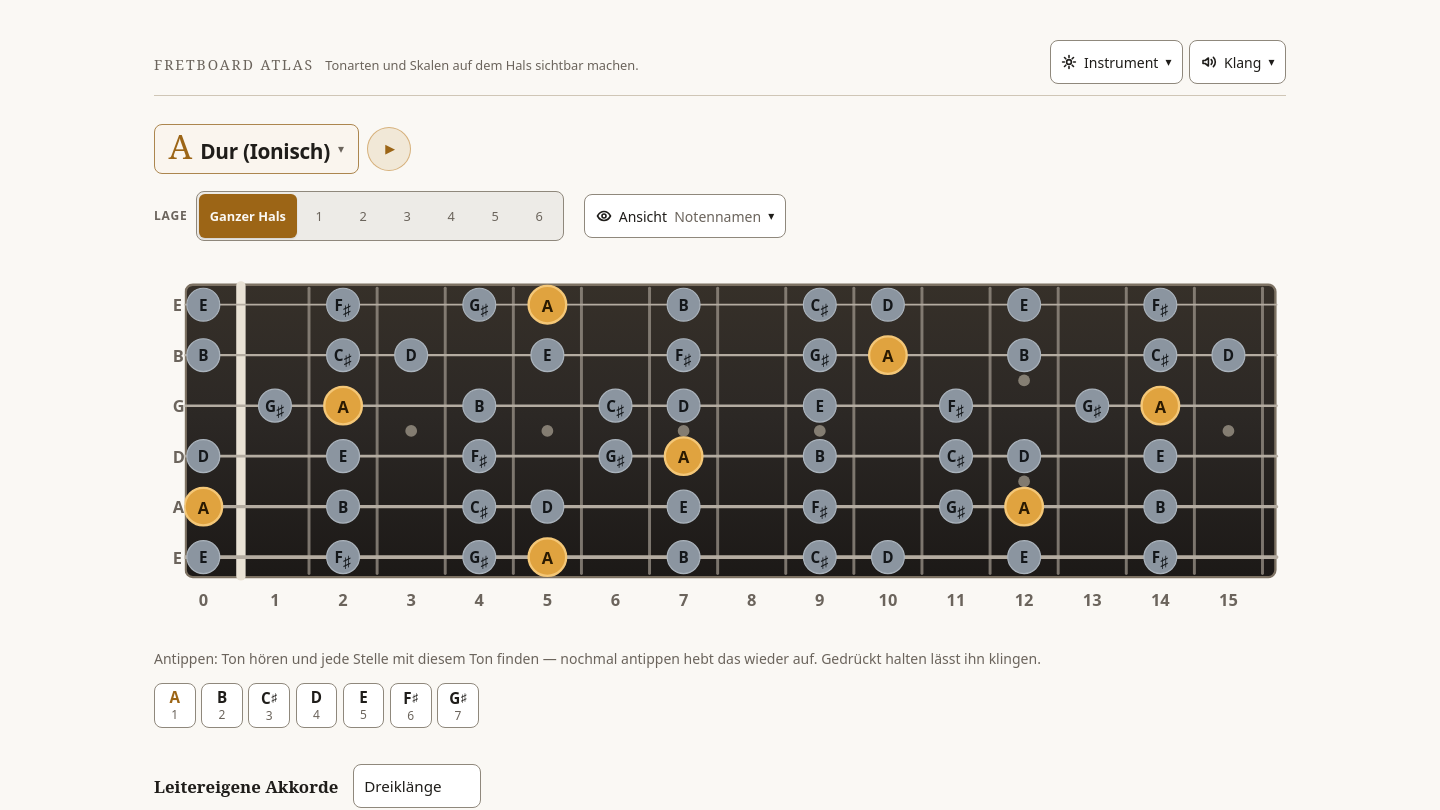
Test: App — Tonart finden › meldet ein nicht erkanntes Token, statt still zu schlucken
Click the button with class "key-trigger": x=256, y=149 x1=154 y1=124 x2=358 y2=174
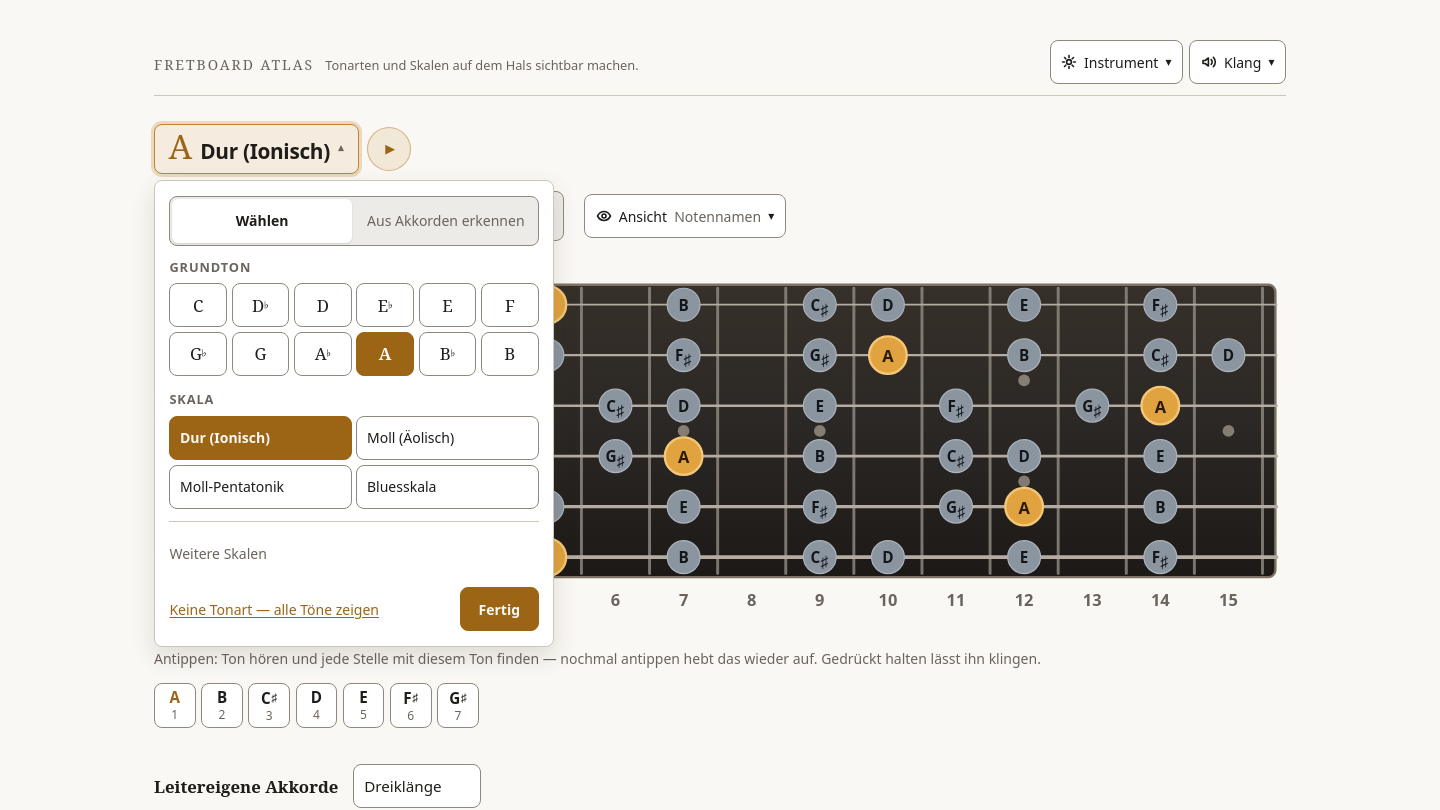
Click the tab "Aus Akkorden erkennen": x=446, y=220 x1=356 y1=198 x2=536 y2=242
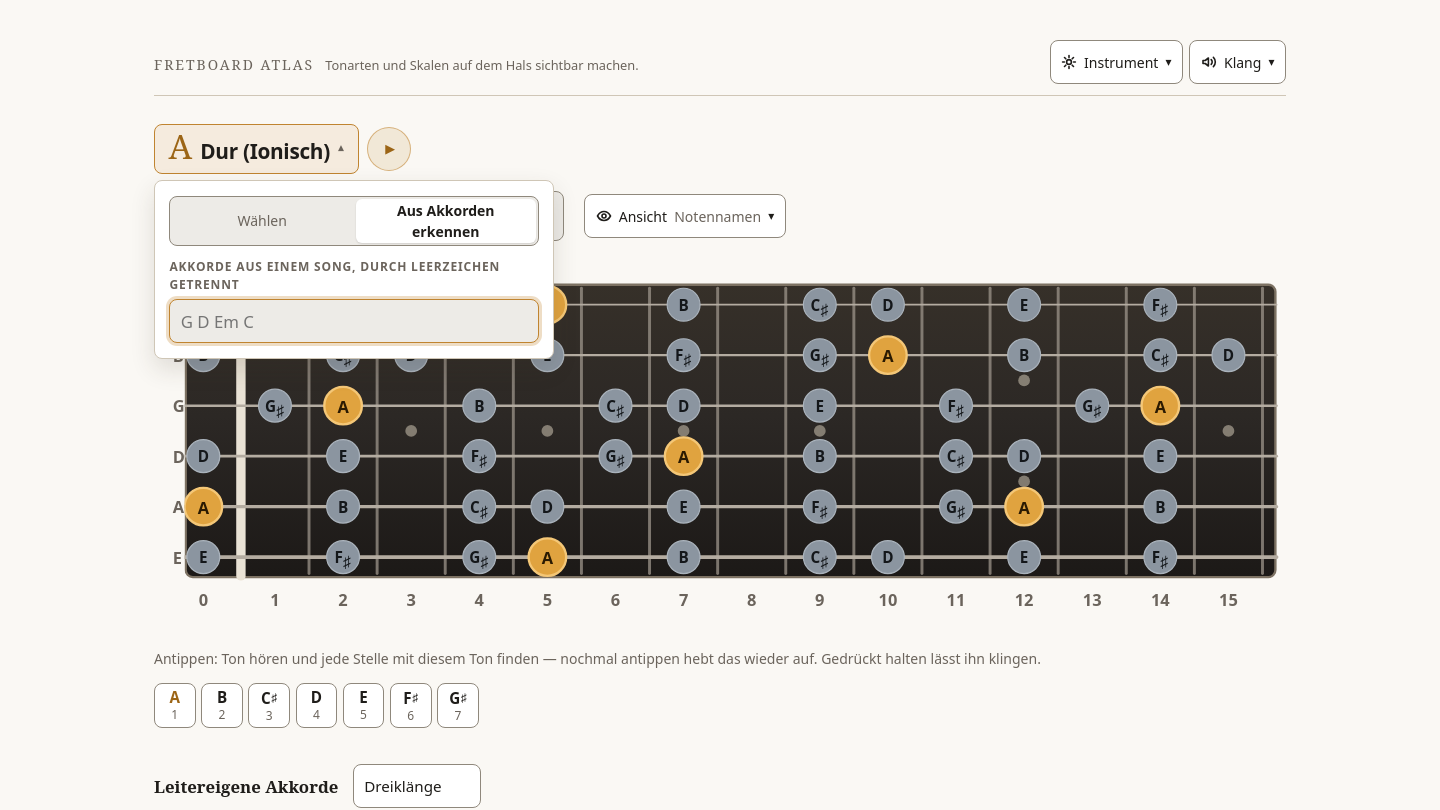
In the field labelled "Akkorde aus einem Song, durch Leerzeichen getrennt": x=354, y=321 x1=169 y1=299 x2=539 y2=343, type "G H"
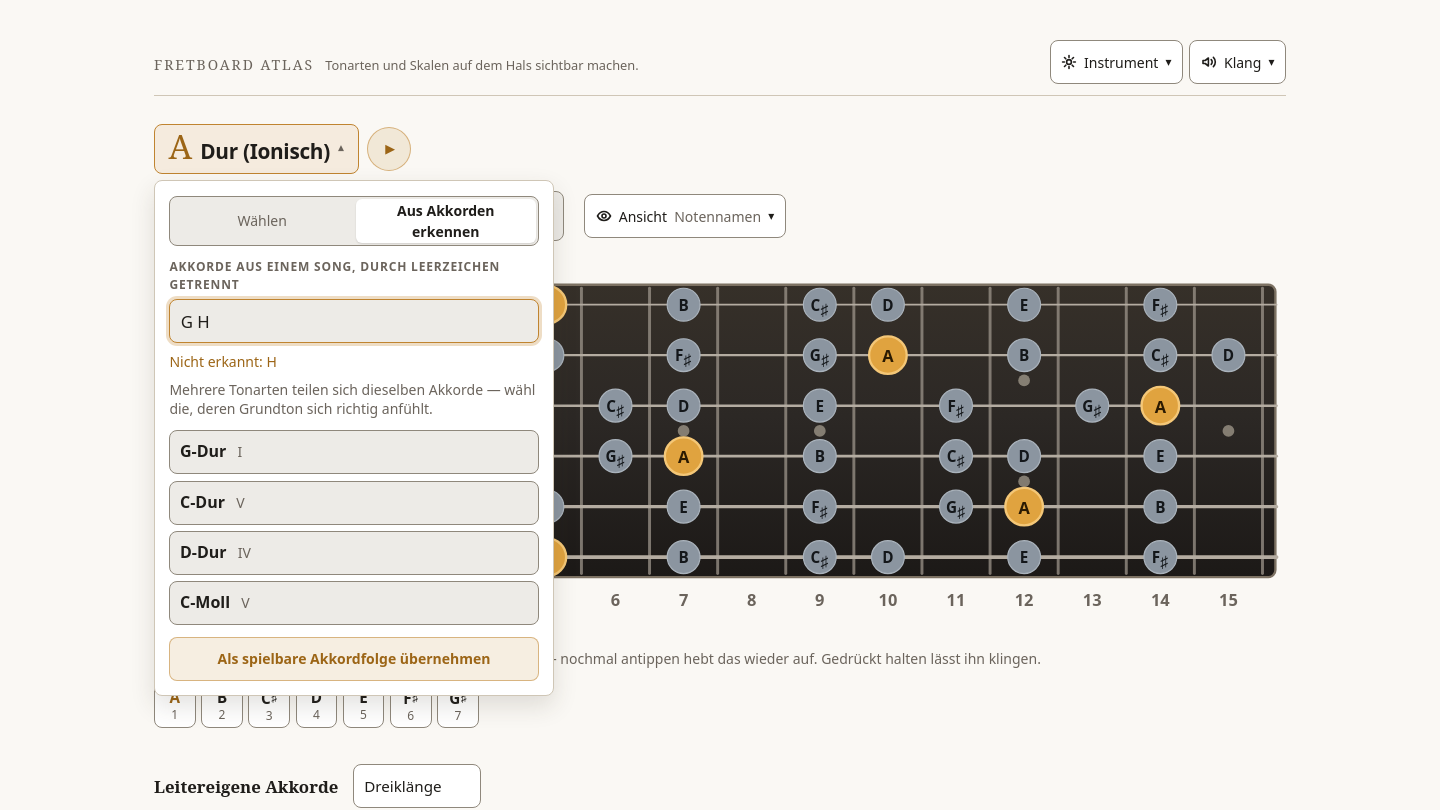
Result: the text with class "keyfinder-note--warn" shows "h" at x1=266 y1=352 x2=277 y2=371
